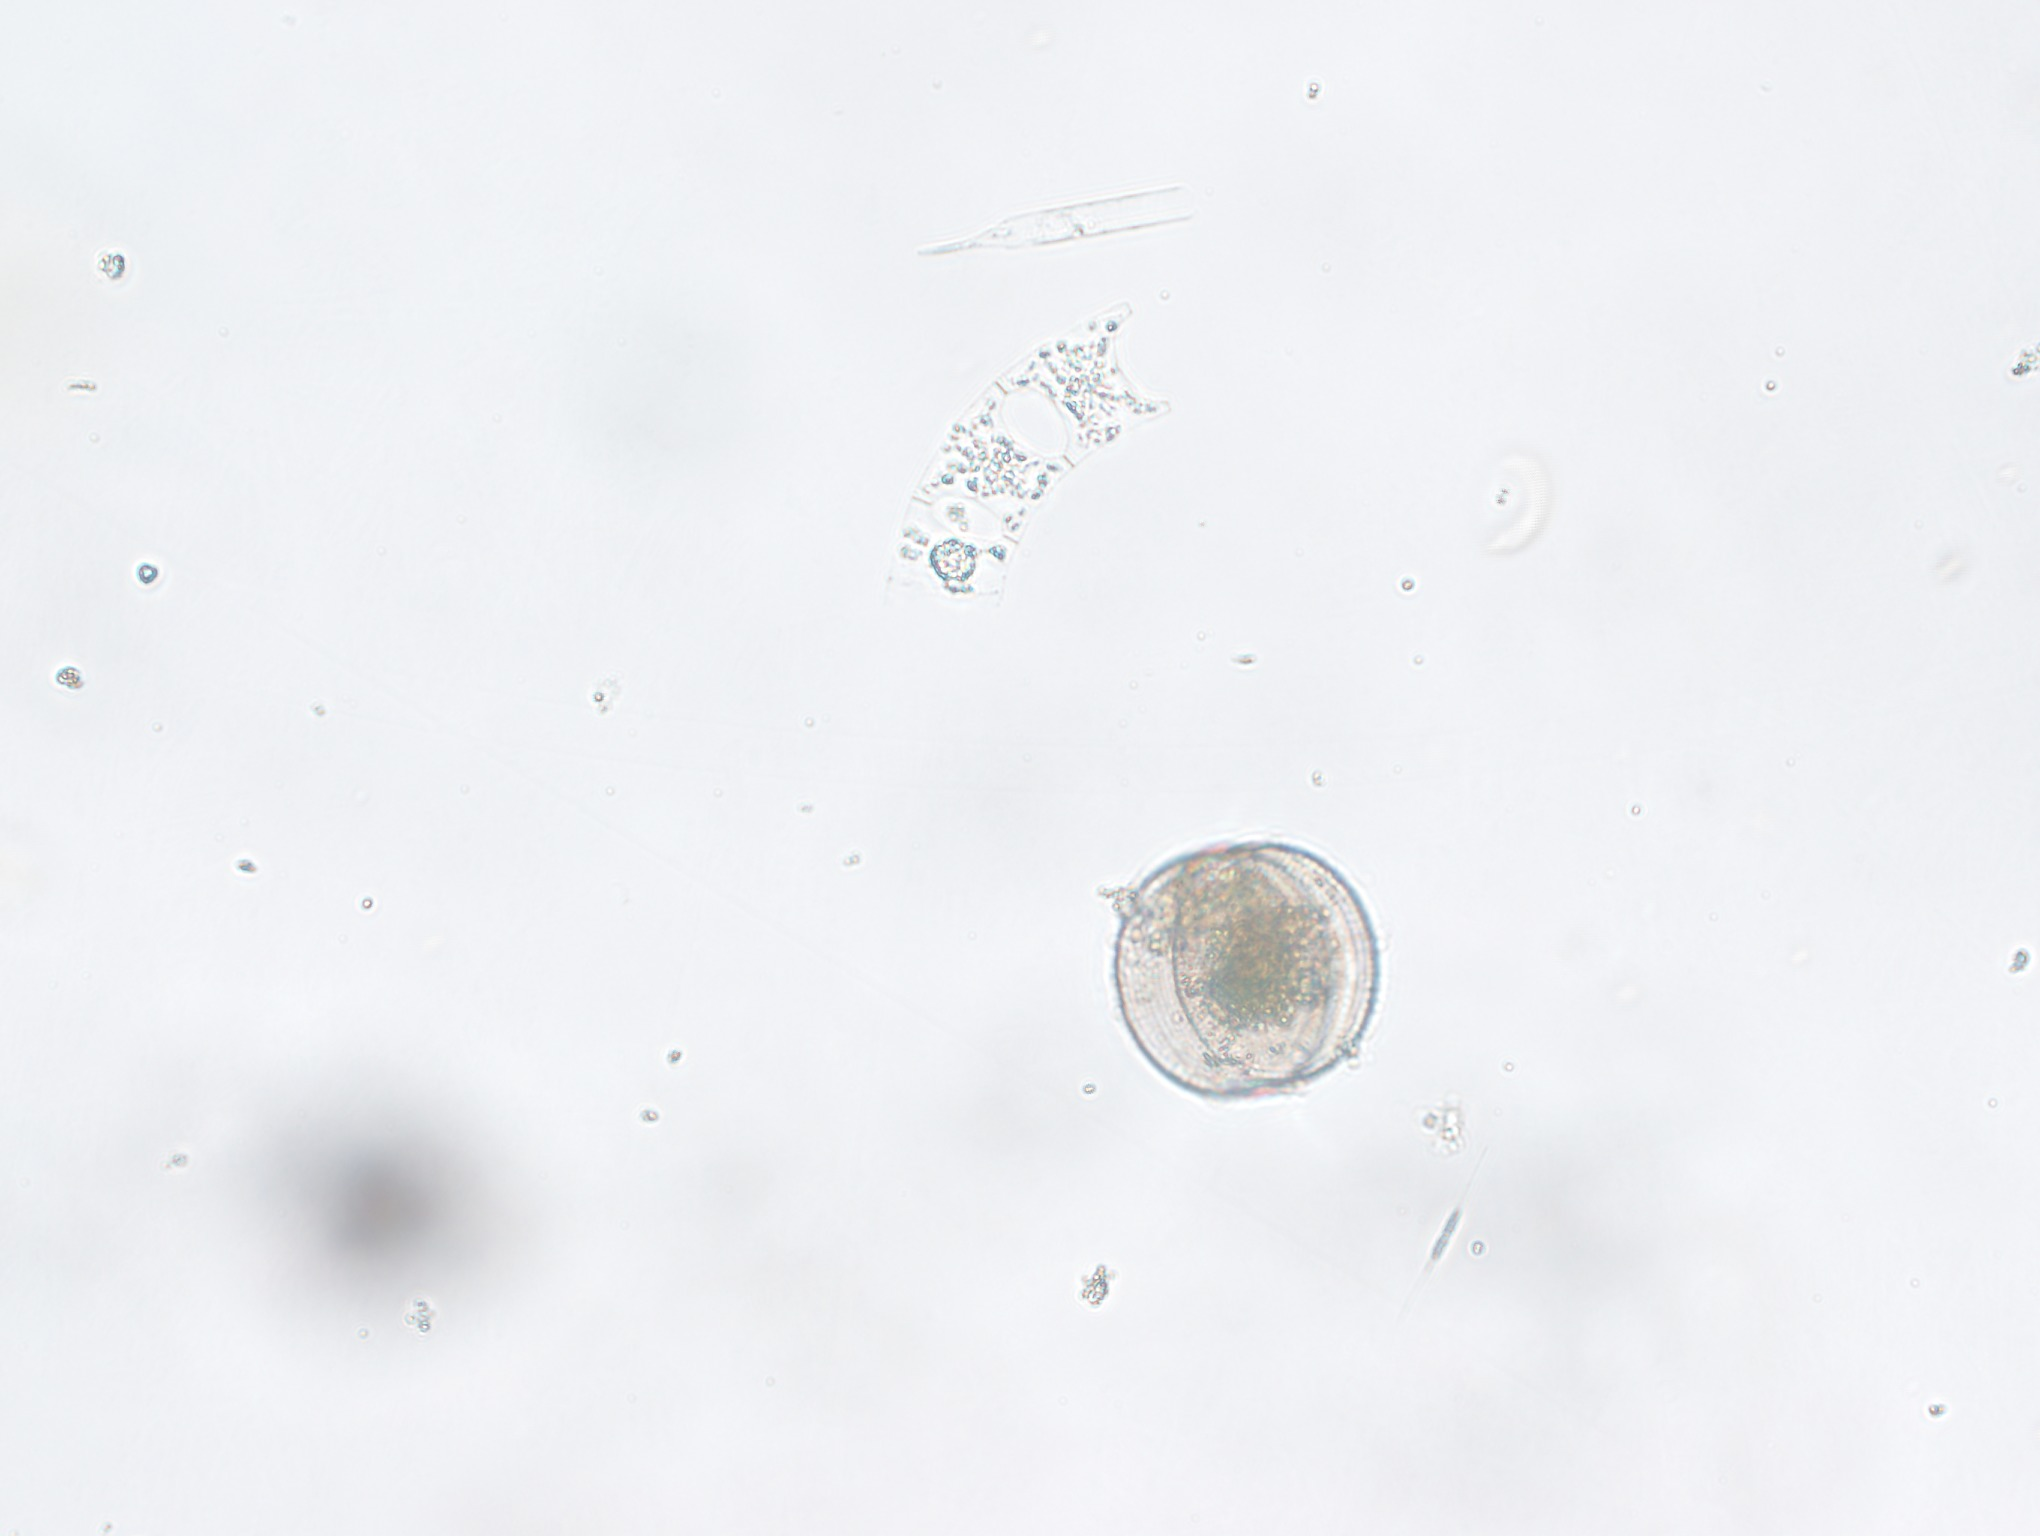coscinodiscus flank: (1092, 824, 1403, 1113)
eucampia: (872, 302, 1174, 616)
rhizosolenia: (885, 182, 1222, 269)
